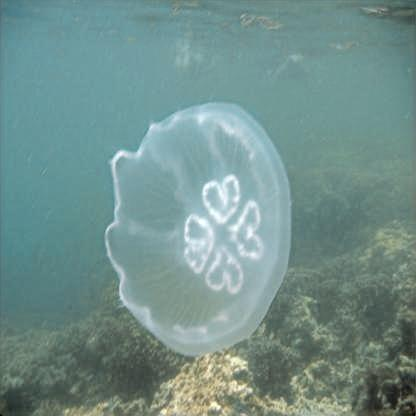Speckle: (106, 102, 294, 358)
